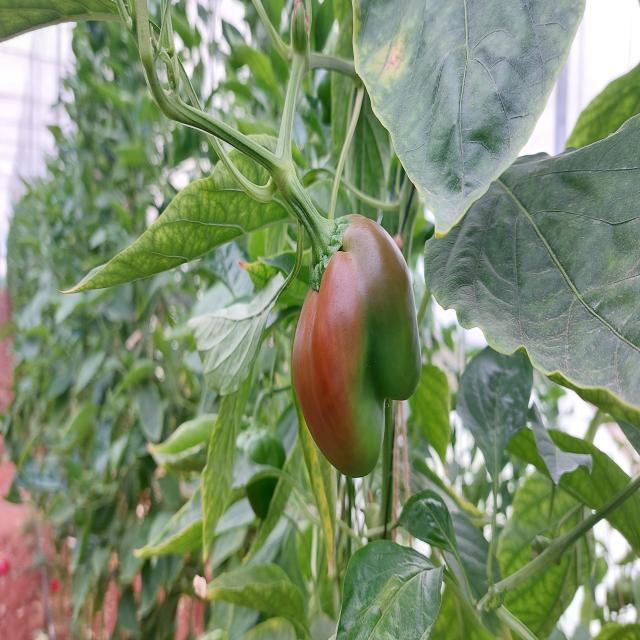BrownishRed--Can-be-Harvested: (293, 226, 432, 477)
